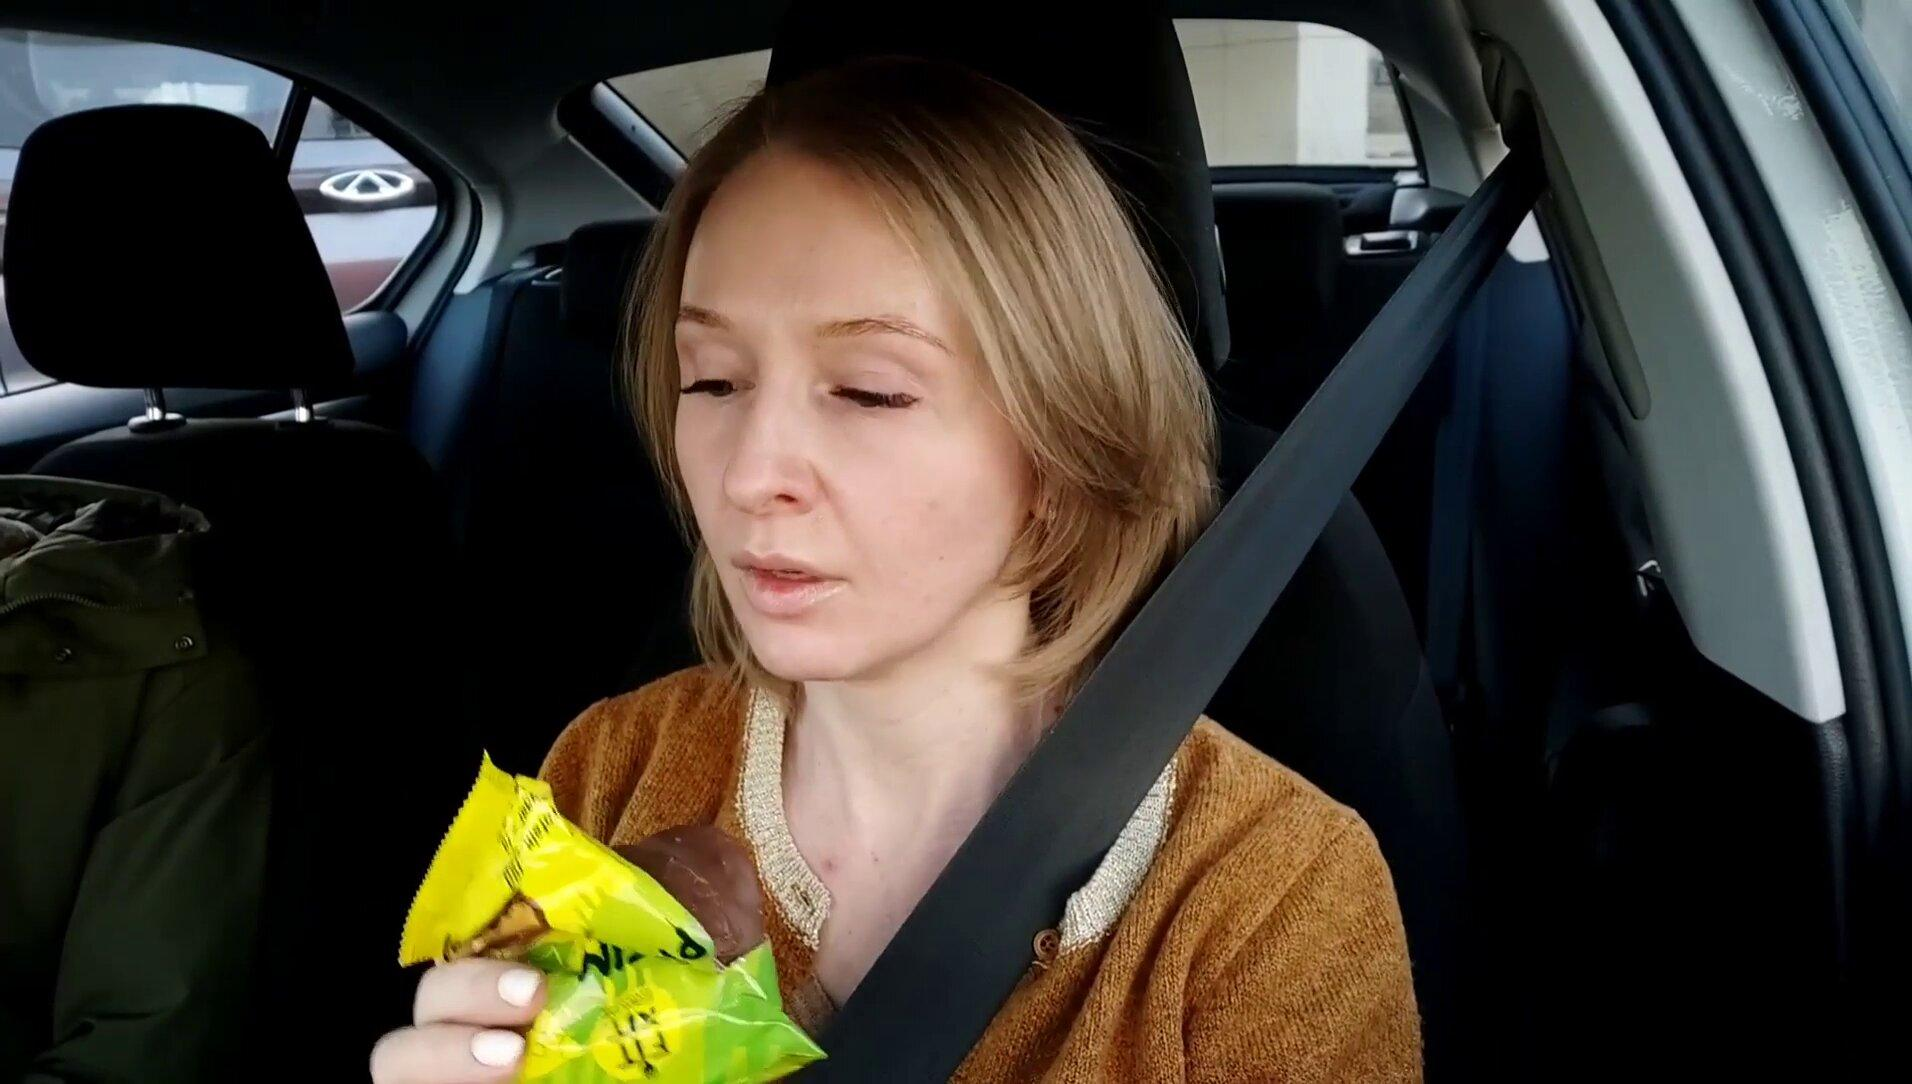Eating: (398, 750, 833, 1084)
